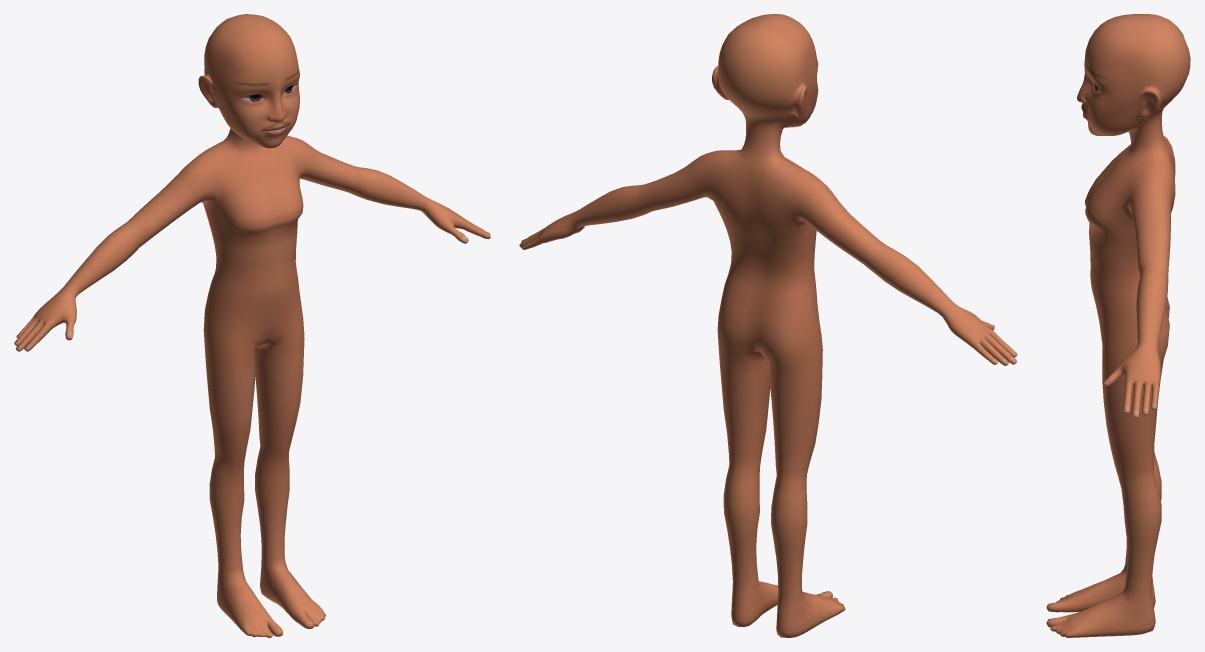
The model's file is frame_0050.glb.
3 views of the same model, side by side, from view 1: azimuth 30°, elevation 25°; view 2: azimuth 150°, elevation 25°; view 3: azimuth 270°, elevation 25° (orthographic). The views are drawn at different scales.
Visible parts, largest first — view 1: frame_0050_head_geo; view 2: frame_0050_head_geo; view 3: frame_0050_head_geo.
Part boxes in pixels (x1=…): frame_0050_head_geo: x1=14, y1=14, x2=490, y2=637; frame_0050_head_geo: x1=519, y1=14, x2=1017, y2=637; frame_0050_head_geo: x1=1046, y1=14, x2=1190, y2=637.
Size of the model in its own units: 1.28 by 1.5 by 0.3253.
Materials: 3 (3 with a texture image).
